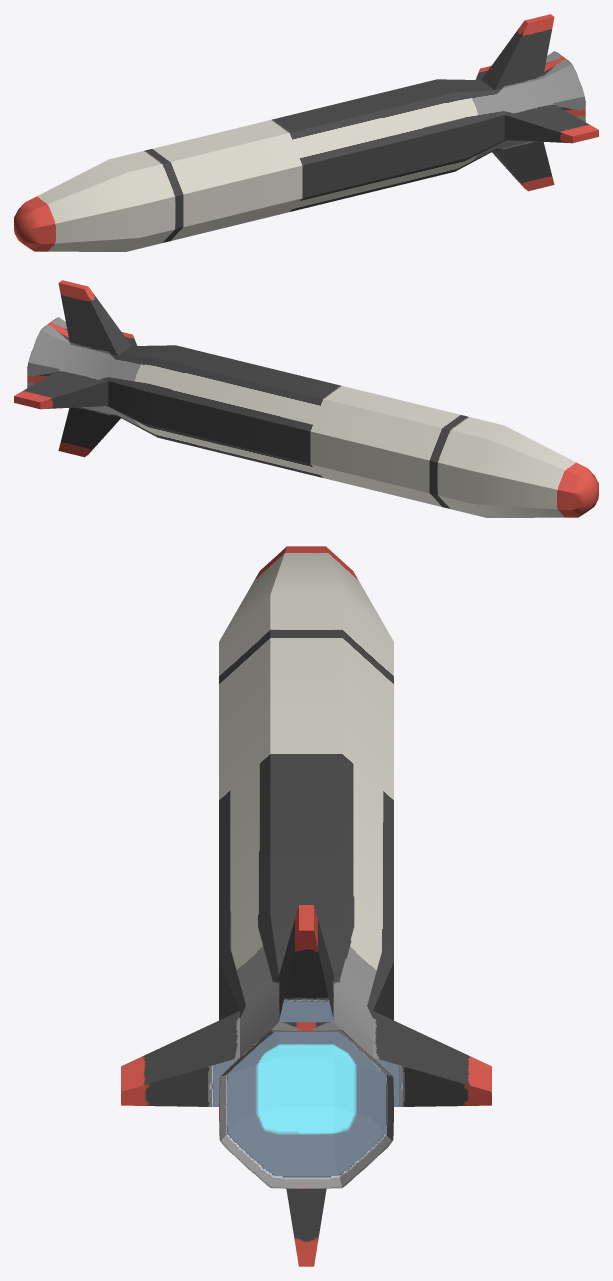
File: missile_1.fbx
The picture shows the model from 3 angles, top to bottom: view 1: azimuth 30°, elevation 25°; view 2: azimuth 150°, elevation 25°; view 3: azimuth 270°, elevation 25°; orthographic projection. The views are drawn at different scales.
Visible parts, largest first — view 1: missile_1.LOD0; view 2: missile_1.LOD0; view 3: missile_1.LOD0.
Boxes of the visible parts, left/top/right/bottom form: missile_1.LOD0: left=14, top=14, right=598, bottom=251; missile_1.LOD0: left=14, top=280, right=598, bottom=517; missile_1.LOD0: left=121, top=546, right=491, bottom=1266.
Size of what is drawn, in the model's own units: 58.82 by 200 by 58.82.
Materials: 1 (1 with a texture image).
